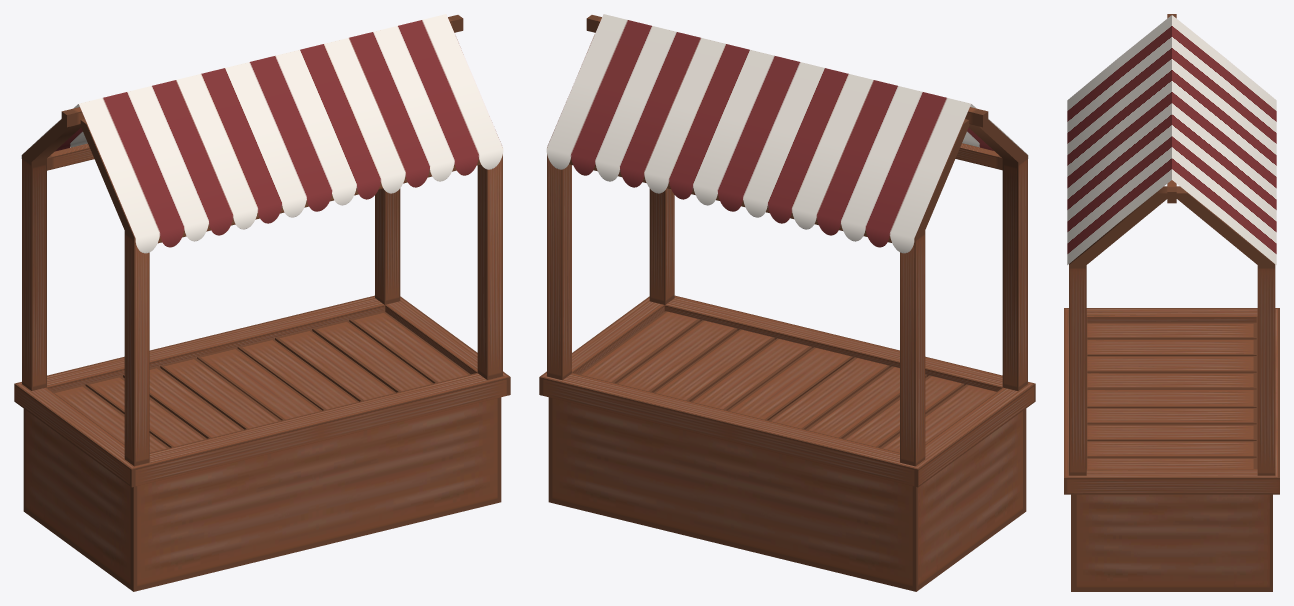
The model's file is MarketStallHand.fbx.
3 renders of one model, left to right at view 1: azimuth 30°, elevation 25°; view 2: azimuth 150°, elevation 25°; view 3: azimuth 270°, elevation 25°, orthographic. The views are drawn at different scales.
Parts seen in each view (by area): view 1: MarketStall (1); view 2: MarketStall (1); view 3: MarketStall (1).
Part boxes in pixels (x1=…): MarketStall (1): x1=14, y1=14, x2=510, y2=591; MarketStall (1): x1=539, y1=14, x2=1035, y2=591; MarketStall (1): x1=1064, y1=14, x2=1279, y2=591.
Size of the model in its own units: 0.8915 by 0.9629 by 0.4572.
